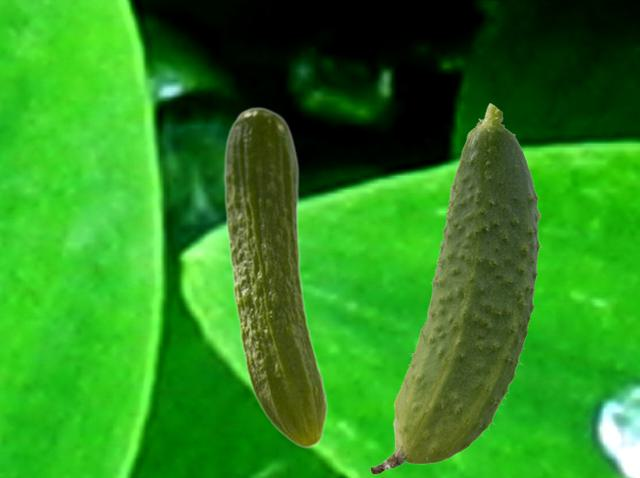cucumber: (370, 103, 541, 473), (223, 106, 327, 448)
